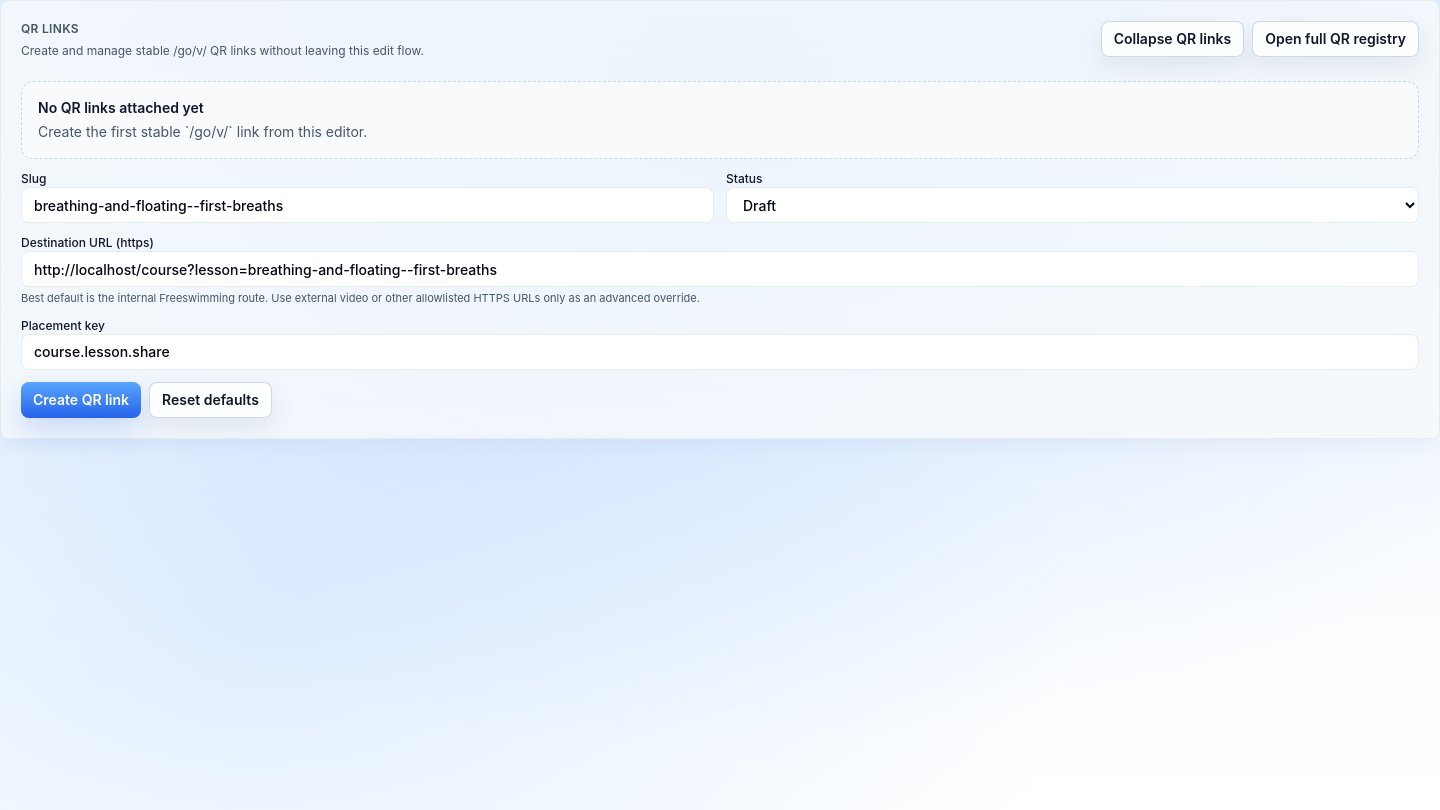
Test: AdminContextQrPanel › announces contextual QR action feedback politely without changing the create payload
Expected: the form with test id "admin-context-qr-create-form" is shown, [21,171,1419,418]
Click the button "Create QR link".
click(81, 400)  # box [21,382,141,418]
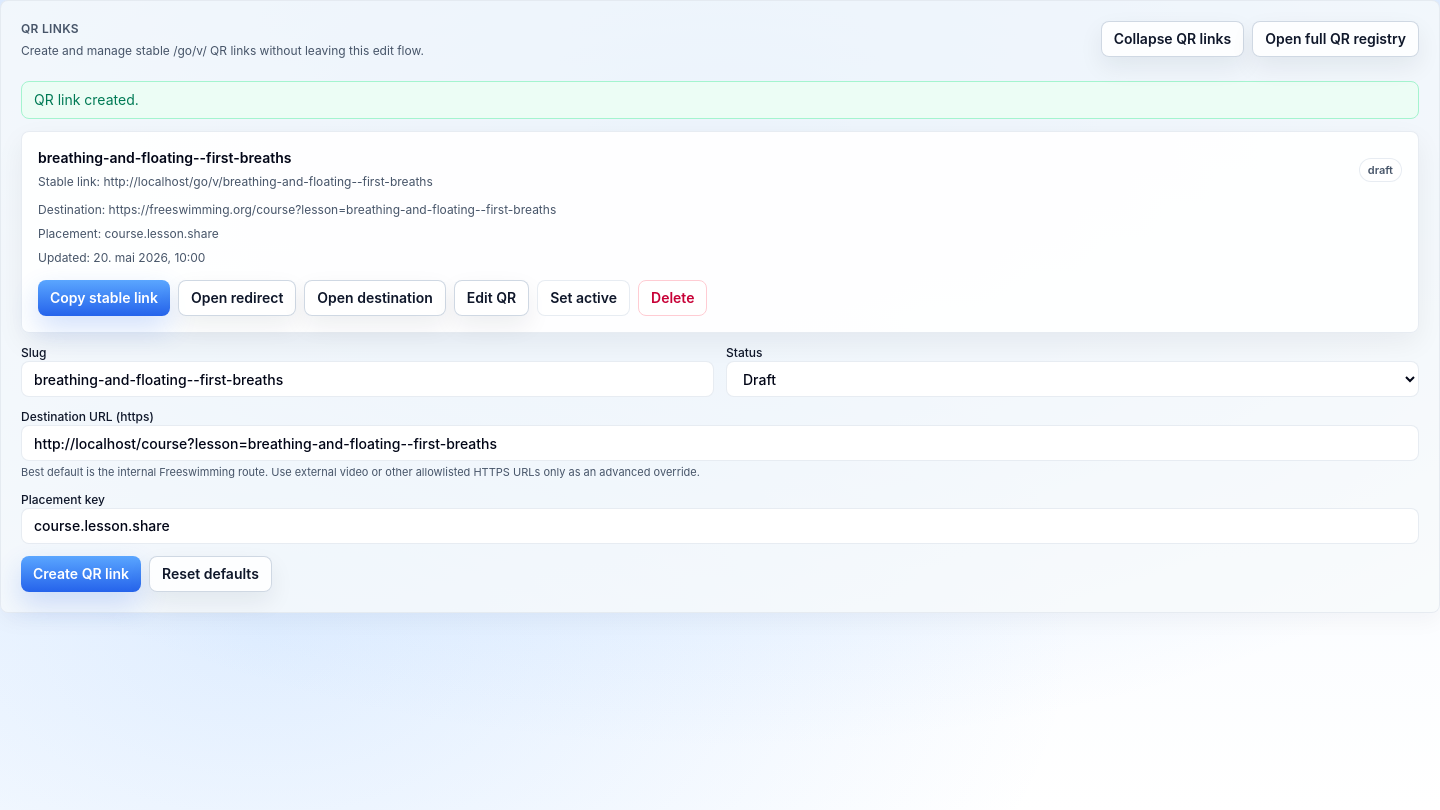
Now the message reads "QR link created.", box [34,91,139,108]
